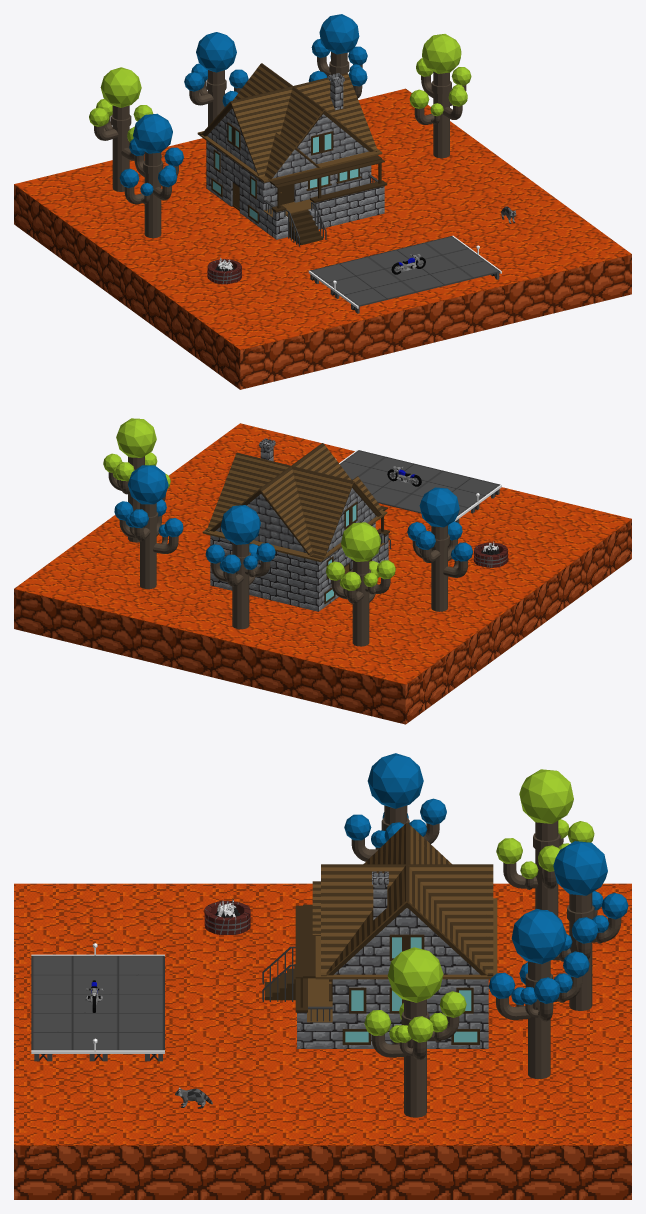
3 renders of one model, top to bottom at view 1: azimuth 30°, elevation 25°; view 2: azimuth 150°, elevation 25°; view 3: azimuth 270°, elevation 25°, orthographic. The views are drawn at different scales.
Parts seen in each view (by area): view 1: Cube.001, Cube.586, OBJRANDOM_CAMPFIRE; view 2: Cube.001, Cube.586, OBJRANDOM_CAMPFIRE; view 3: Cube.001, Cube.586, OBJRANDOM_CAMPFIRE.
Boxes of the visible parts, x1,y1,x2,y2 form: Cube.001: [14, 14, 631, 389]; Cube.586: [197, 63, 387, 246]; OBJRANDOM_CAMPFIRE: [207, 257, 241, 284]; Cube.001: [14, 418, 631, 724]; Cube.586: [202, 438, 390, 611]; OBJRANDOM_CAMPFIRE: [473, 541, 508, 567]; Cube.001: [14, 753, 631, 1199]; Cube.586: [262, 823, 497, 1048]; OBJRANDOM_CAMPFIRE: [204, 896, 250, 934].
Size of the model in its own units: 4000 by 1816 by 4000.
Materials: 28 (5 with a texture image).
